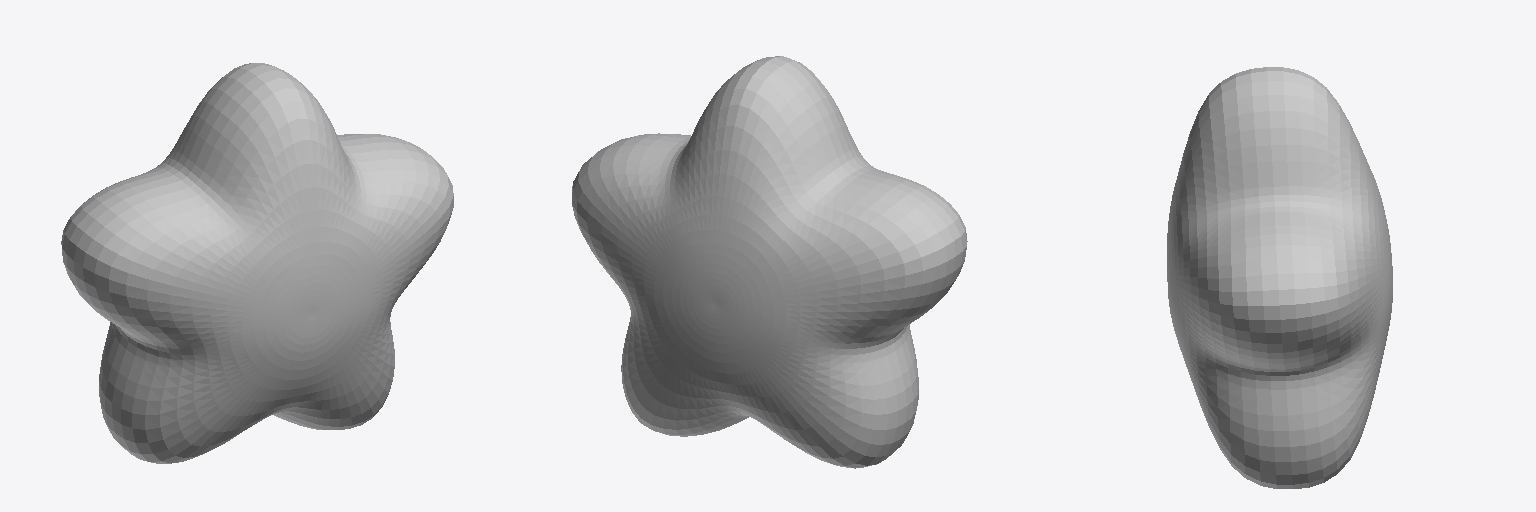
Rendered from star.obj.
3 renders of one model, left to right at view 1: azimuth 30°, elevation 25°; view 2: azimuth 150°, elevation 25°; view 3: azimuth 270°, elevation 25°, orthographic.
Visible parts, largest first — view 1: xingxing; view 2: xingxing; view 3: xingxing.
Boxes of the visible parts, <box> form: xingxing: <box>61,63,453,463</box>; xingxing: <box>572,56,967,468</box>; xingxing: <box>1167,67,1392,488</box>.
Size of the model in its own units: 1.33 by 1.3 by 0.7071.